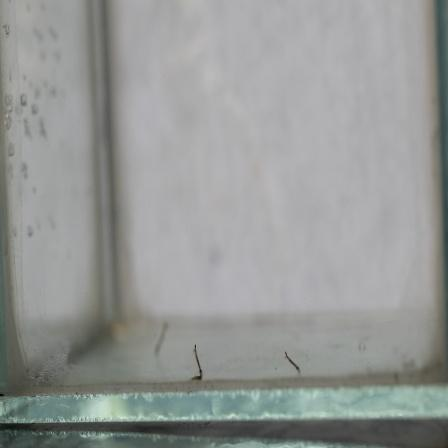Jentik-Nyamuk: (188, 341, 207, 386), (282, 348, 304, 373)
